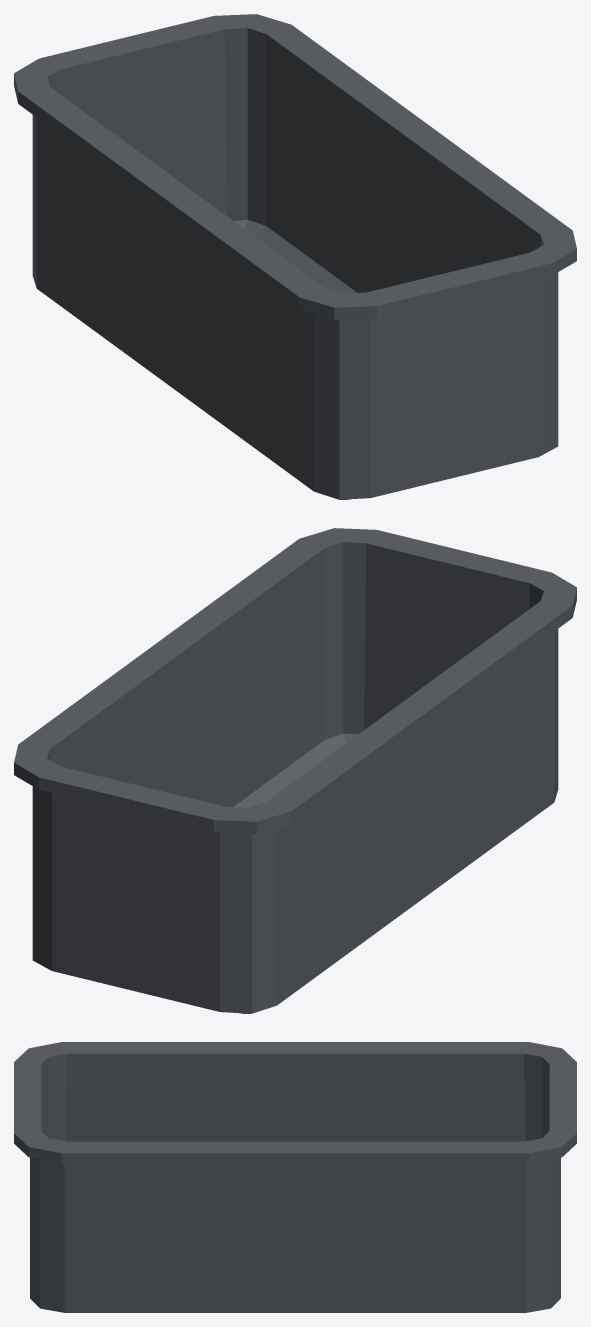
The model's file is SM_Prop_Kitchen_Counter_02_Container_05.obj.
3 views of the same model, one above another, from view 1: azimuth 30°, elevation 25°; view 2: azimuth 150°, elevation 25°; view 3: azimuth 270°, elevation 25° (orthographic). The views are drawn at different scales.
Visible parts, largest first — view 1: SM_Prop_Kitchen_Counter_02_Container_05_0; view 2: SM_Prop_Kitchen_Counter_02_Container_05_0; view 3: SM_Prop_Kitchen_Counter_02_Container_05_0.
Boxes of the visible parts, x1,y1,x2,y2 form: SM_Prop_Kitchen_Counter_02_Container_05_0: [14, 14, 576, 499]; SM_Prop_Kitchen_Counter_02_Container_05_0: [14, 528, 576, 1013]; SM_Prop_Kitchen_Counter_02_Container_05_0: [14, 1042, 576, 1312].
Bounding box in the file's own units: 0.3647 × 0.2723 × 0.781.
1 material, 1 textured.
